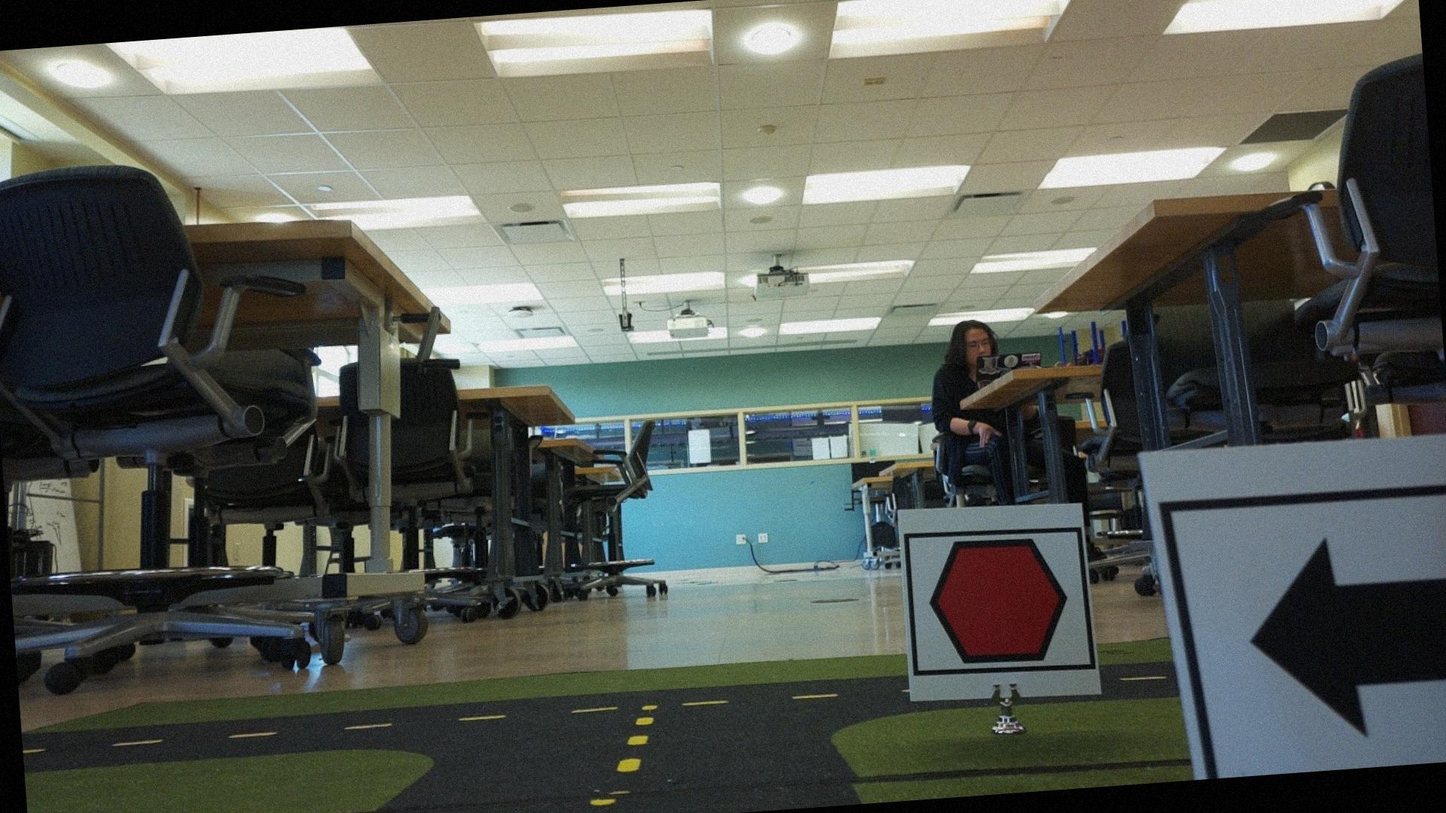stop: (905, 530, 1091, 680)
turnright: (1193, 492, 1445, 777)
yellowline: (615, 711, 657, 775)
